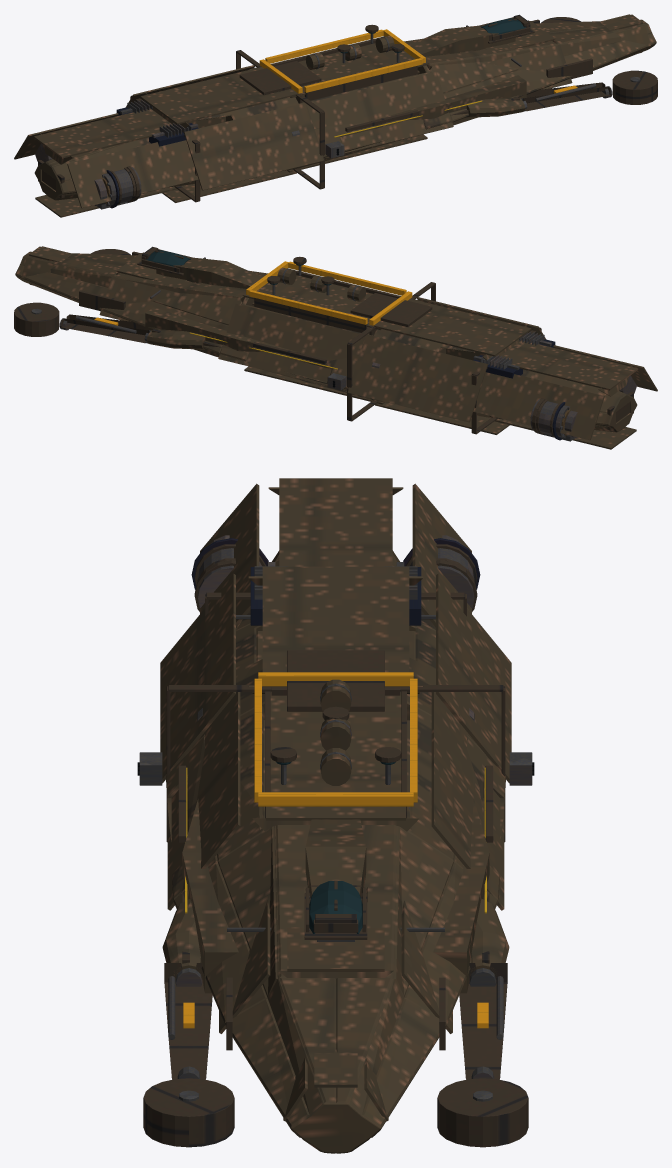
The model's file is salvage_cutter_production_v1_lod1.glb.
3 renders of one model, top to bottom at view 1: azimuth 30°, elevation 25°; view 2: azimuth 150°, elevation 25°; view 3: azimuth 270°, elevation 25°, orthographic. The views are drawn at different scales.
Parts seen in each view (by area): view 1: LOD1_Hull, LOD1_Armor, LOD1_Mechanical, LOD1_Warning, LOD1_Radiator, LOD1_Canopy; view 2: LOD1_Hull, LOD1_Armor, LOD1_Mechanical, LOD1_Warning, LOD1_Radiator, LOD1_Canopy; view 3: LOD1_Hull, LOD1_Armor, LOD1_Mechanical, LOD1_Warning, LOD1_Radiator, LOD1_Canopy.
Part boxes in pixels (bbox=[...]): LOD1_Hull: bbox=[14, 14, 656, 217]; LOD1_Armor: bbox=[38, 14, 657, 205]; LOD1_Mechanical: bbox=[35, 25, 640, 209]; LOD1_Warning: bbox=[259, 29, 577, 93]; LOD1_Radiator: bbox=[106, 107, 198, 208]; LOD1_Canopy: bbox=[340, 18, 525, 53]; LOD1_Hull: bbox=[15, 246, 657, 449]; LOD1_Armor: bbox=[14, 246, 633, 437]; LOD1_Mechanical: bbox=[31, 257, 636, 441]; LOD1_Warning: bbox=[94, 261, 412, 325]; LOD1_Radiator: bbox=[473, 339, 565, 440]; LOD1_Canopy: bbox=[146, 250, 331, 285]; LOD1_Hull: bbox=[160, 478, 511, 1153]; LOD1_Armor: bbox=[143, 544, 528, 1147]; LOD1_Mechanical: bbox=[139, 535, 532, 1101]; LOD1_Warning: bbox=[183, 672, 488, 1028]; LOD1_Radiator: bbox=[191, 538, 480, 625]; LOD1_Canopy: bbox=[276, 762, 395, 933].
Size of what is drawn, in the model's own units: 14.56 by 2.3 by 4.18.
9 materials, 9 textured.
